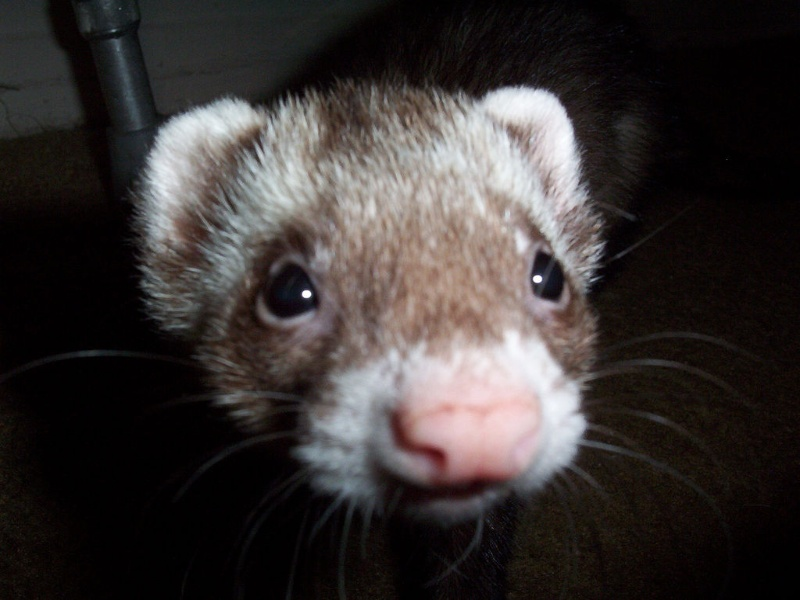minkish: (128, 89, 600, 513)
